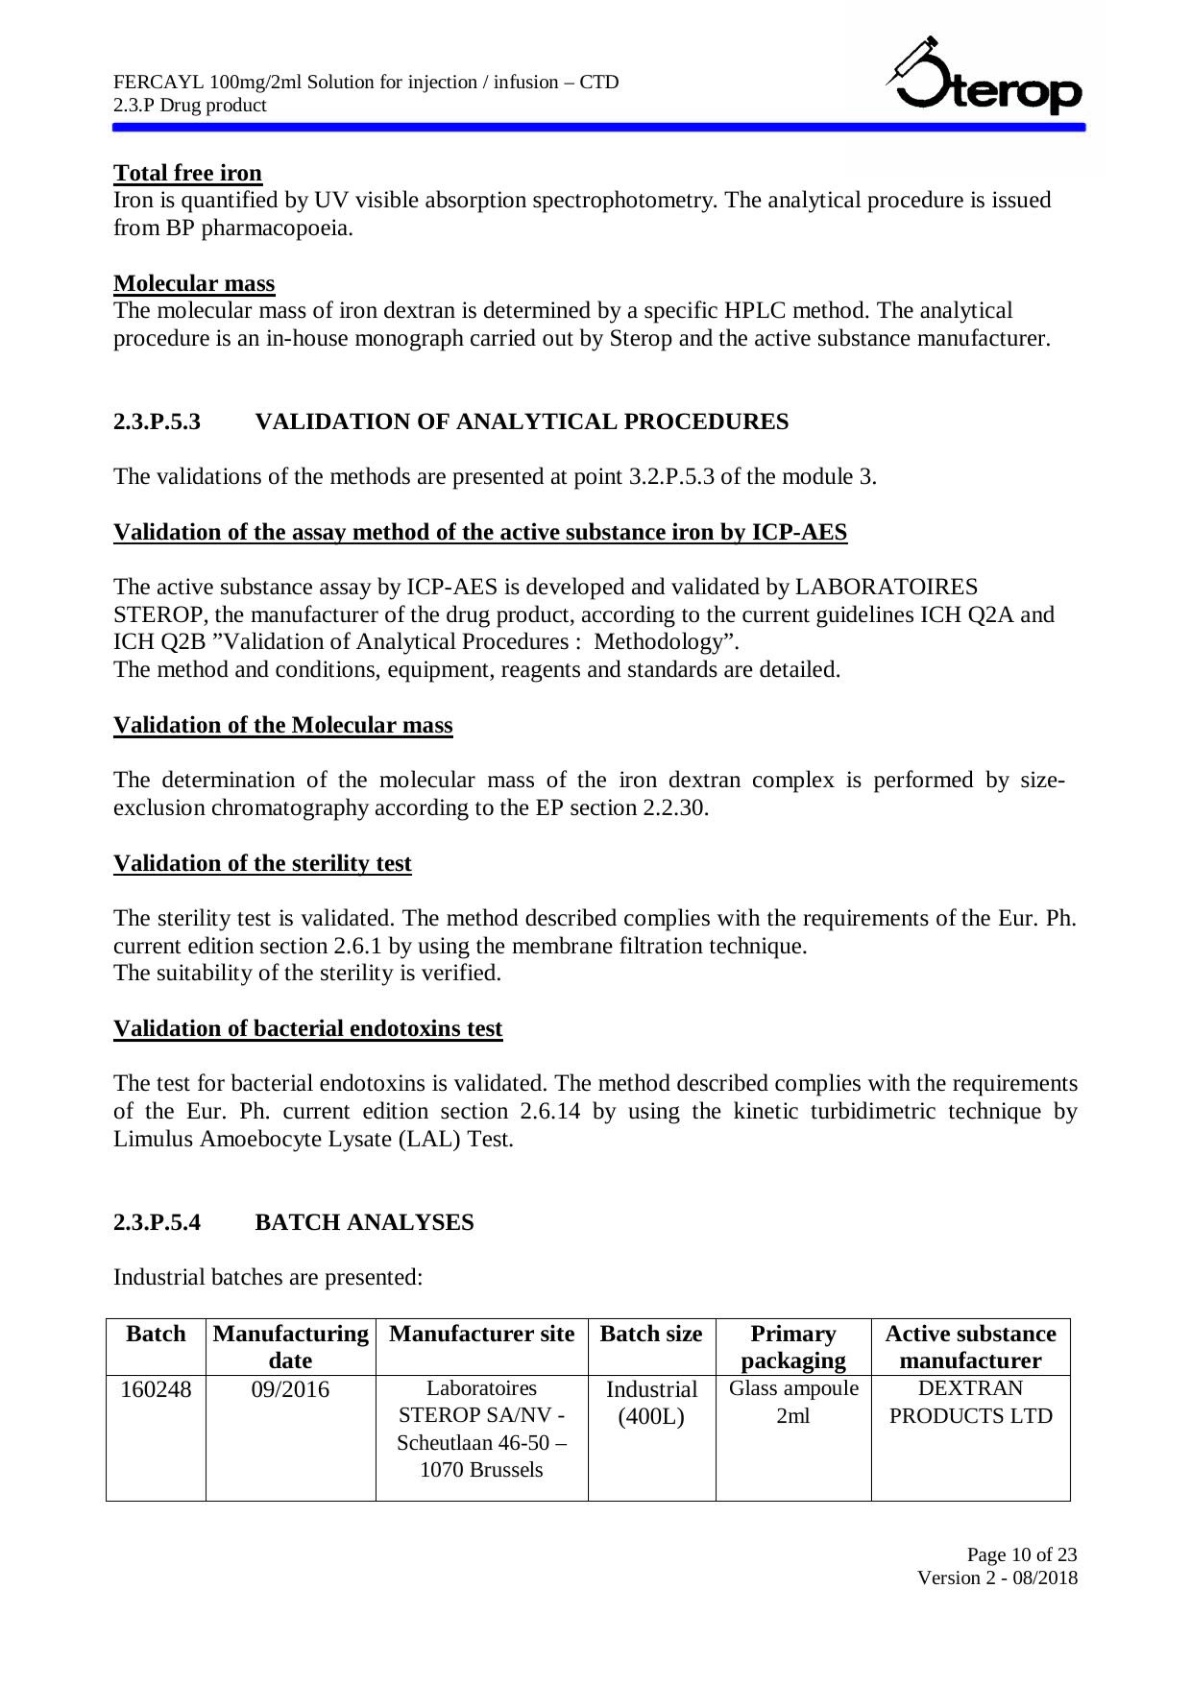full_lined: (104, 1318, 1072, 1502)
